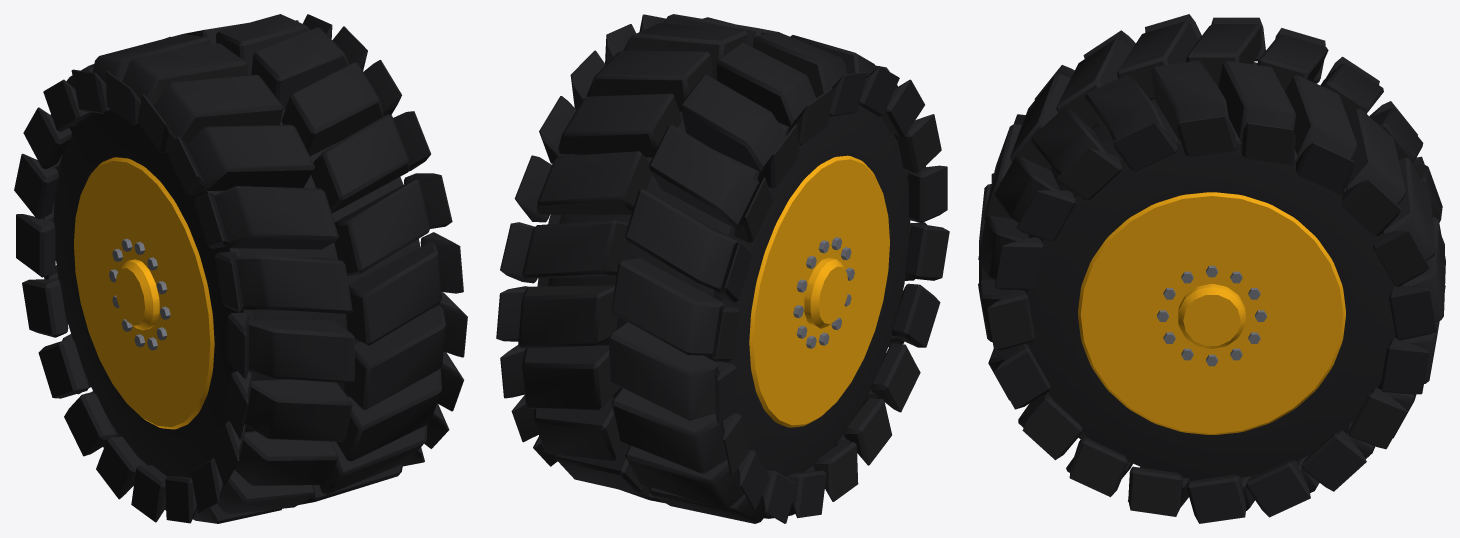
File: wheel.glb
3 views of the same model, side by side, from view 1: azimuth 30°, elevation 25°; view 2: azimuth 150°, elevation 25°; view 3: azimuth 270°, elevation 25° (orthographic). The views are drawn at different scales.
Parts seen in each view (by area): view 1: Wheel; view 2: Wheel; view 3: Wheel.
Boxes of the visible parts, left/top/right/bottom form: Wheel: left=14, top=14, right=467, bottom=523; Wheel: left=496, top=14, right=949, bottom=523; Wheel: left=978, top=14, right=1445, bottom=523.
Bounding box in the file's own units: 1.21 × 2.31 × 2.31.
